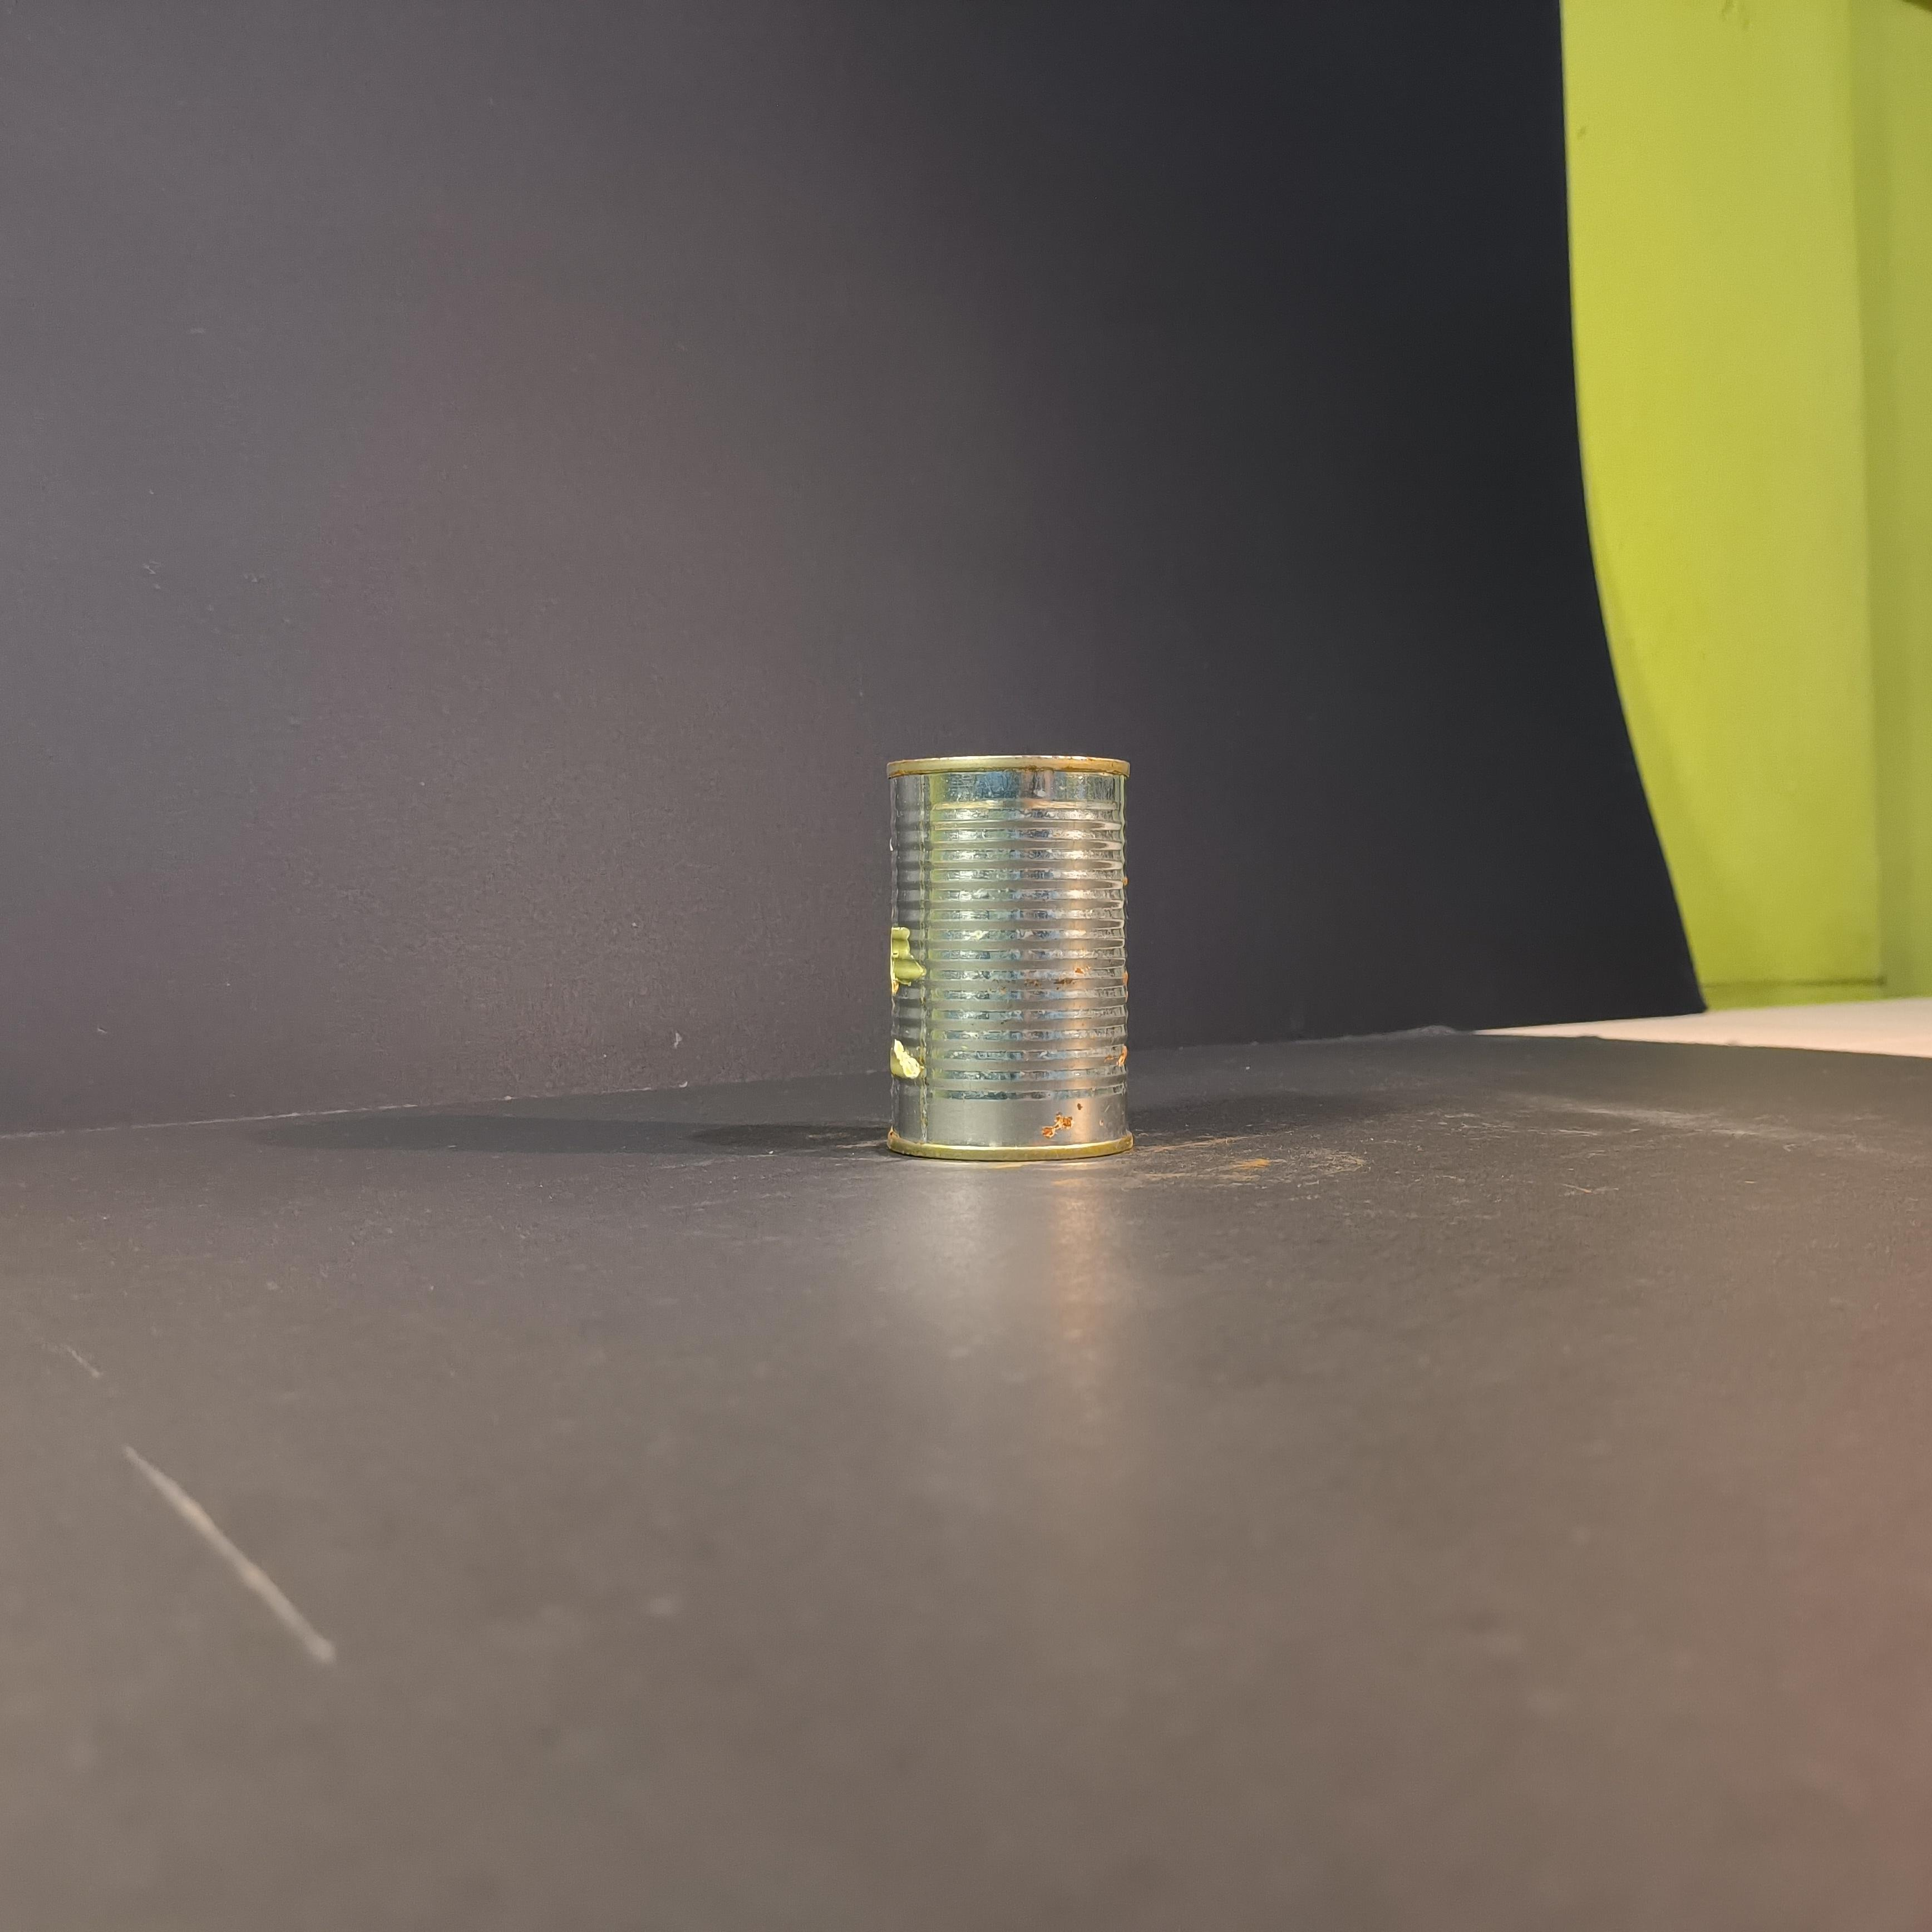Rusted: (874, 725, 1152, 1168)
